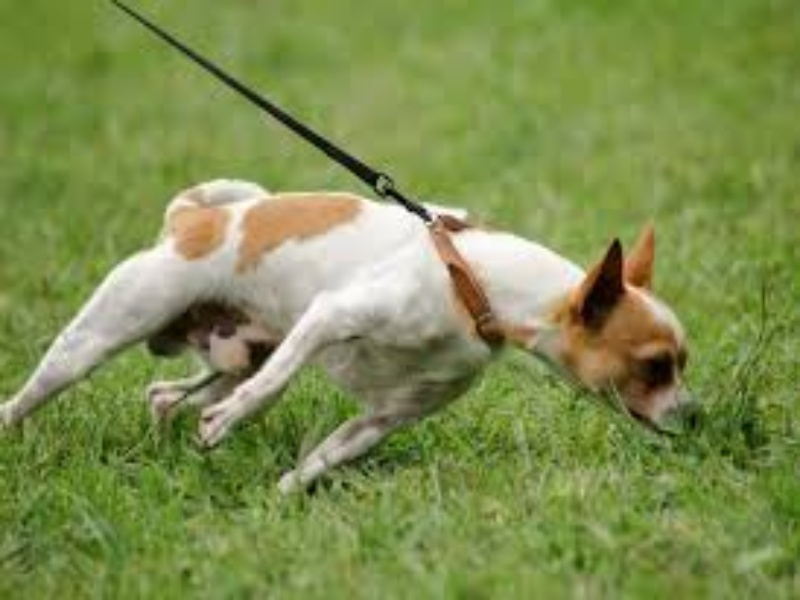dog: (19, 170, 714, 501)
